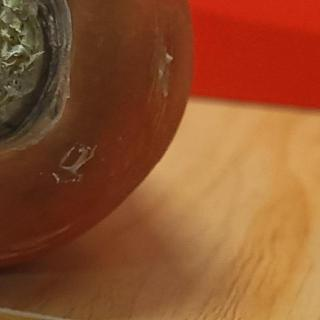carrot: (0, 0, 198, 278)
